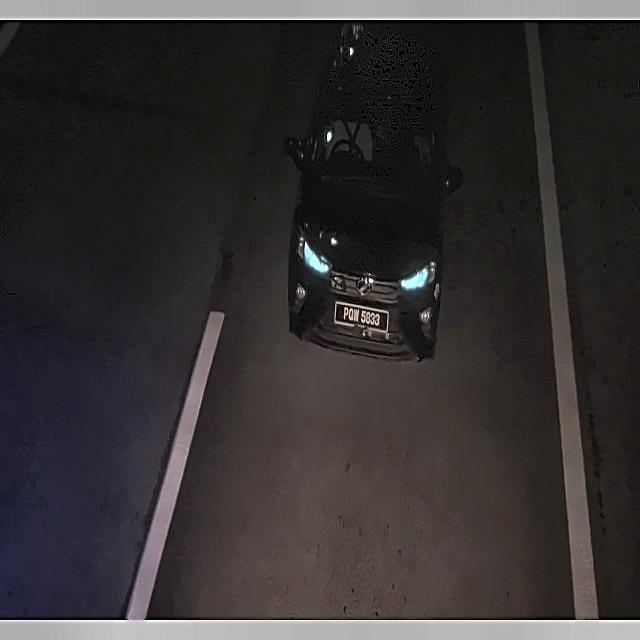car: (334, 292, 389, 345)
